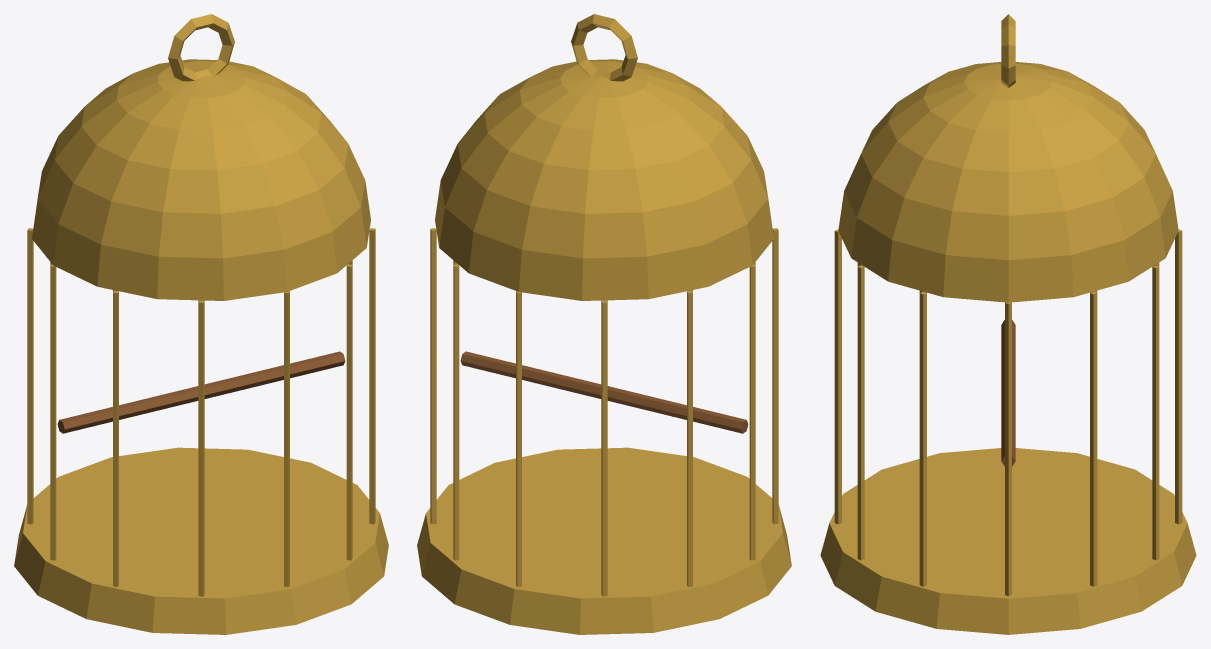
File: bird_cage.glb
The picture shows the model from 3 angles, left to right: view 1: azimuth 30°, elevation 25°; view 2: azimuth 150°, elevation 25°; view 3: azimuth 270°, elevation 25°; orthographic projection.
Parts seen in each view (by area): view 1: cage_cage_brass (×3), bars_cage_brass (×7), perch_cage_perch; view 2: cage_cage_brass (×3), bars_cage_brass (×7), perch_cage_perch; view 3: cage_cage_brass (×3), bars_cage_brass (×7), perch_cage_perch.
Part boxes in pixels (left/top/right/bottom): cage_cage_brass (×3): left=14, top=14, right=388, bottom=634; bars_cage_brass (×7): left=27, top=228, right=375, bottom=596; perch_cage_perch: left=57, top=351, right=345, bottom=433; cage_cage_brass (×3): left=417, top=14, right=791, bottom=634; bars_cage_brass (×7): left=430, top=228, right=778, bottom=596; perch_cage_perch: left=460, top=351, right=748, bottom=433; cage_cage_brass (×3): left=820, top=14, right=1196, bottom=634; bars_cage_brass (×7): left=834, top=229, right=1182, bottom=596; perch_cage_perch: left=1001, top=320, right=1015, bottom=466.
Bounding box in the file's own units: 0.42 × 0.6609 × 0.42.
